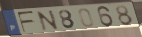0: (78, 7, 95, 28)
6: (97, 6, 115, 28)
8: (115, 4, 134, 26), (59, 9, 76, 29)
F: (17, 10, 36, 34)
N: (35, 9, 60, 32)
